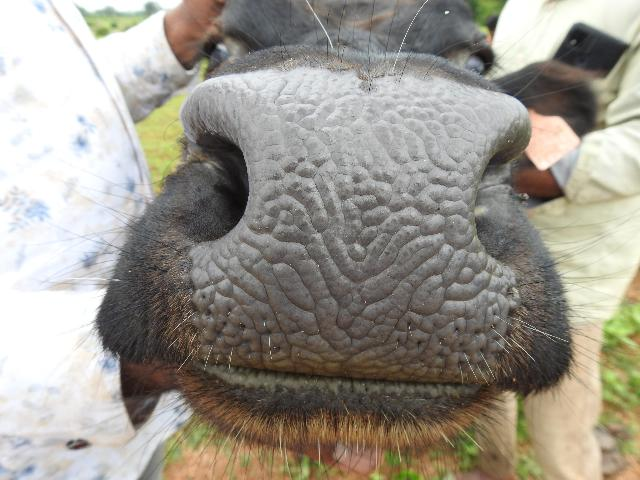Muzzle: (230, 76, 486, 378)
